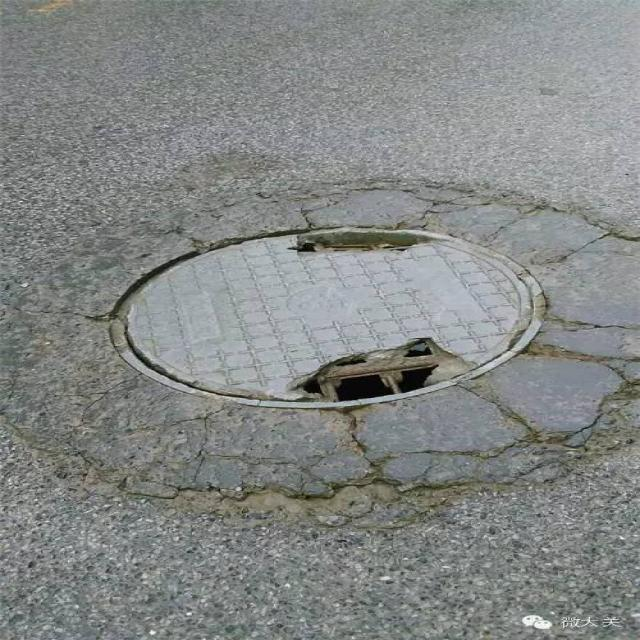manhole: (111, 228, 545, 408)
